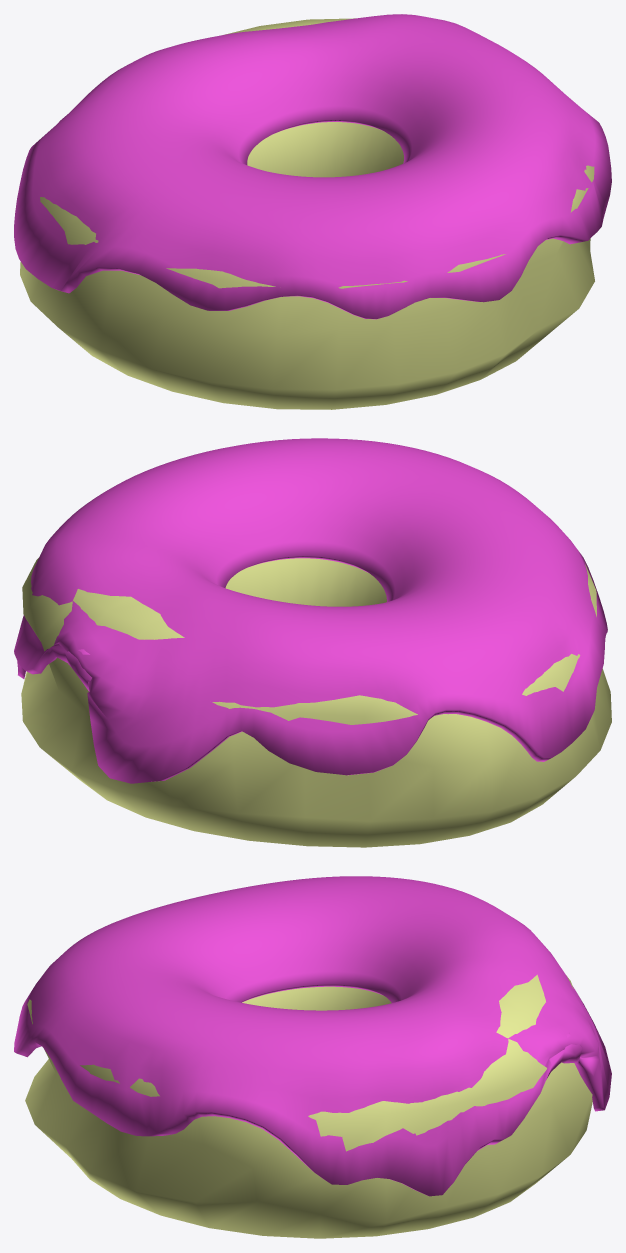
The model's file is donut.glb.
3 views of the same model, one above another, from view 1: azimuth 30°, elevation 25°; view 2: azimuth 150°, elevation 25°; view 3: azimuth 270°, elevation 25° (orthographic). The views are drawn at different scales.
Parts seen in each view (by area): view 1: Icing, Donut; view 2: Icing, Donut; view 3: Icing, Donut.
Part boxes in pixels (bbox=[...]): Icing: bbox=[14, 14, 611, 319]; Donut: bbox=[20, 18, 594, 409]; Icing: bbox=[14, 438, 607, 783]; Donut: bbox=[21, 558, 611, 847]; Icing: bbox=[14, 876, 611, 1196]; Donut: bbox=[25, 974, 592, 1238].
Size of what is drawn, in the model's own units: 0.1487 by 0.0605 by 0.1505.
